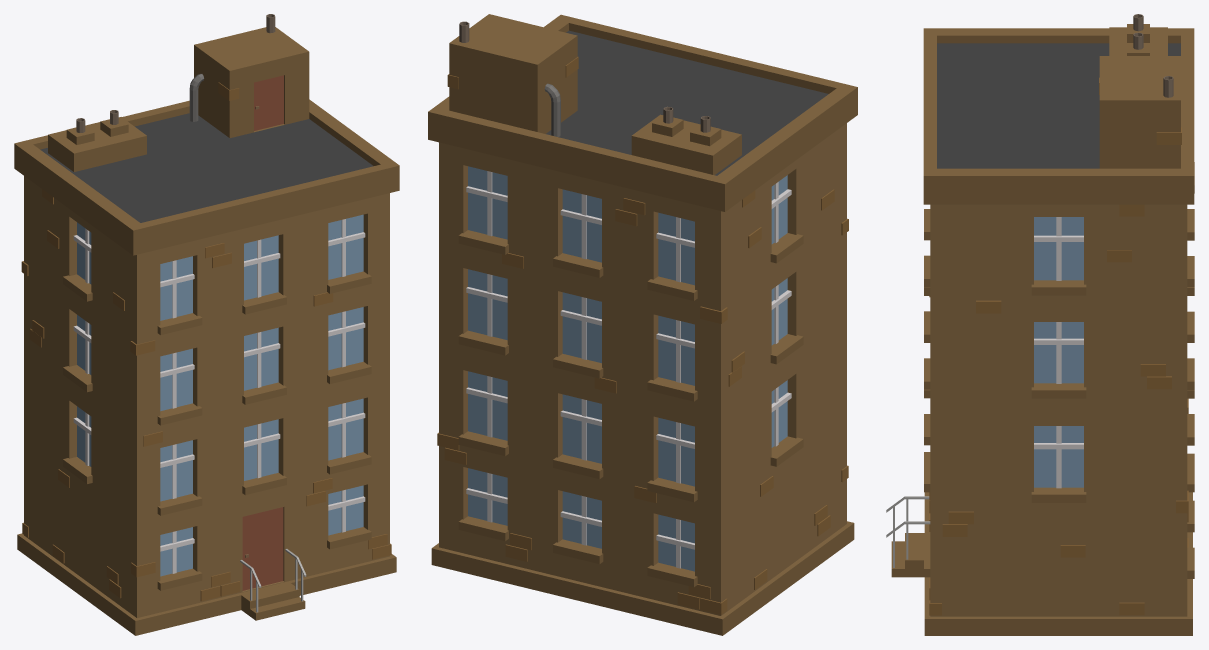
The model's file is Multistory_05.glb.
3 views of the same model, side by side, from view 1: azimuth 30°, elevation 25°; view 2: azimuth 150°, elevation 25°; view 3: azimuth 270°, elevation 25° (orthographic). The views are drawn at different scales.
Visible parts, largest first — view 1: House_05; view 2: House_05; view 3: House_05.
Boxes of the visible parts, x1,y1,x2,y2 form: House_05: [14, 14, 399, 635]; House_05: [428, 14, 857, 635]; House_05: [886, 14, 1194, 635].
Bounding box in the file's own units: 7.14 × 12.35 × 6.3.
Materials: 1 (1 with a texture image).
